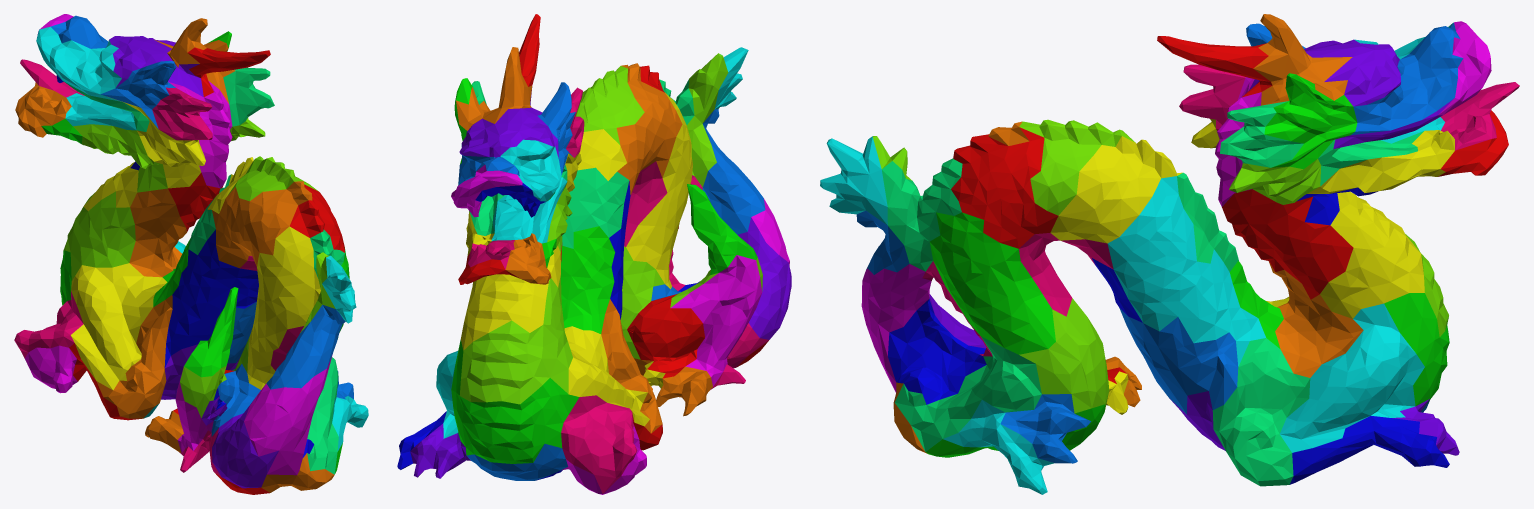
Rendered from Dragon_8K_nanite_LOD0.fbx.
The picture shows the model from 3 angles, left to right: view 1: azimuth 30°, elevation 25°; view 2: azimuth 150°, elevation 25°; view 3: azimuth 270°, elevation 25°; orthographic projection. The views are drawn at different scales.
Size of the model in its own units: 0.4487 by 0.7037 by 0.9996.
